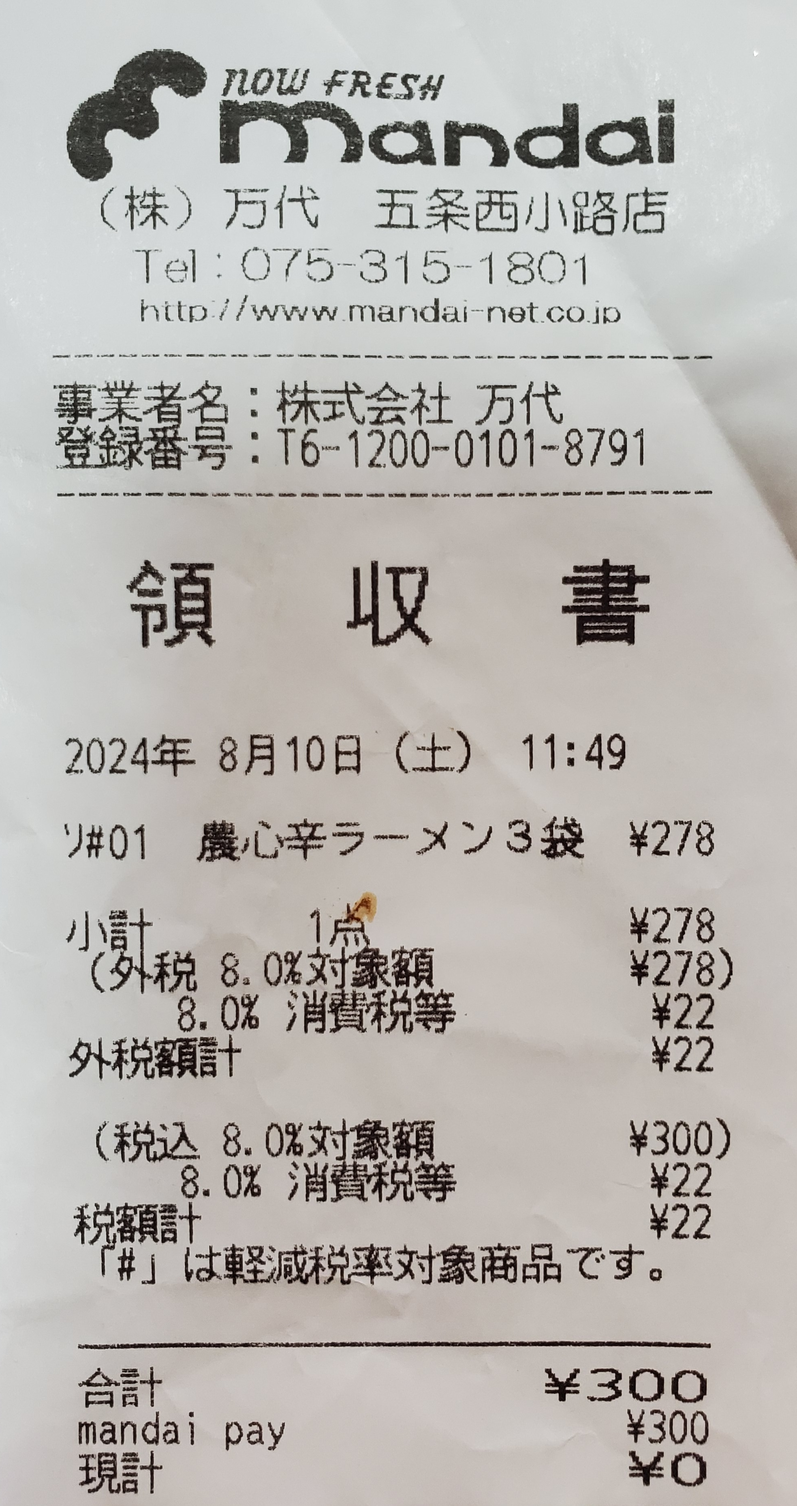Date: (24, 718, 393, 793)
Shopname: (210, 29, 739, 187)
Telnum: (226, 234, 615, 297)
Totalpay: (48, 1357, 726, 1414)
